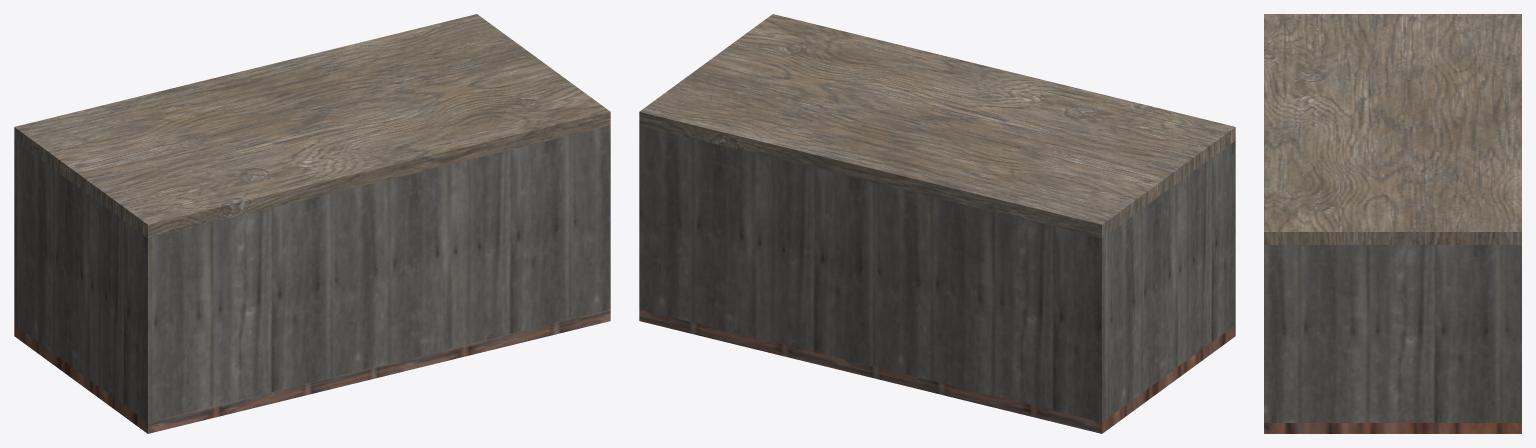
The model's file is jov_roofwood_1td.fbx.
The picture shows the model from 3 angles, left to right: view 1: azimuth 30°, elevation 25°; view 2: azimuth 150°, elevation 25°; view 3: azimuth 270°, elevation 25°; orthographic projection. The views are drawn at different scales.
Parts seen in each view (by area): view 1: jov_roofwood_1td; view 2: jov_roofwood_1td; view 3: jov_roofwood_1td.
Boxes of the visible parts, x1,y1,x2,y2 form: jov_roofwood_1td: (14, 14, 610, 433); jov_roofwood_1td: (639, 14, 1235, 433); jov_roofwood_1td: (1264, 14, 1521, 433).
Size of the model in its own units: 220 by 95.05 by 110.
